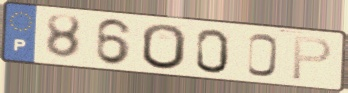0: (194, 27, 233, 75), (246, 33, 280, 78)
6: (94, 17, 133, 68)
8: (43, 13, 84, 62)
O: (140, 22, 188, 72)
P: (290, 35, 334, 83)
